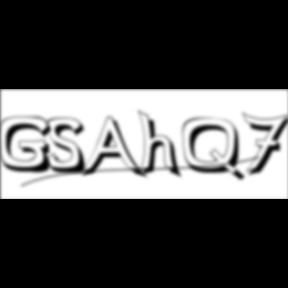A: (80, 116, 150, 182)
G: (0, 116, 58, 176)
Q: (182, 117, 248, 184)
S: (47, 117, 93, 176)
h: (138, 108, 186, 182)
